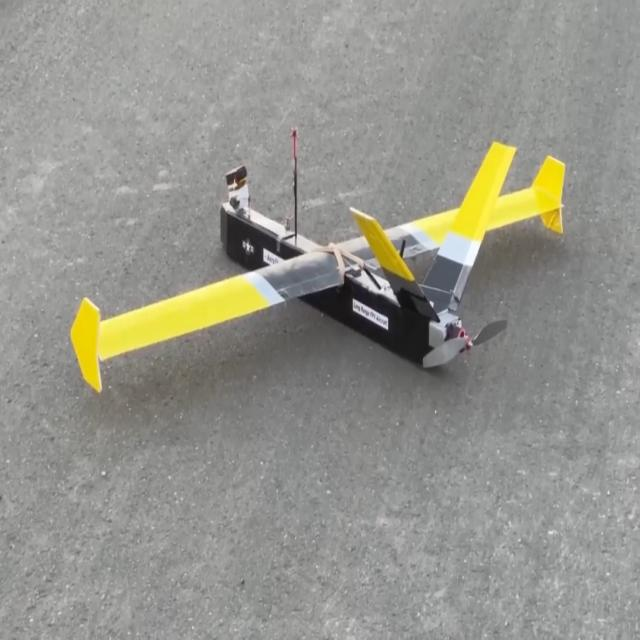iha: (33, 97, 568, 396)
